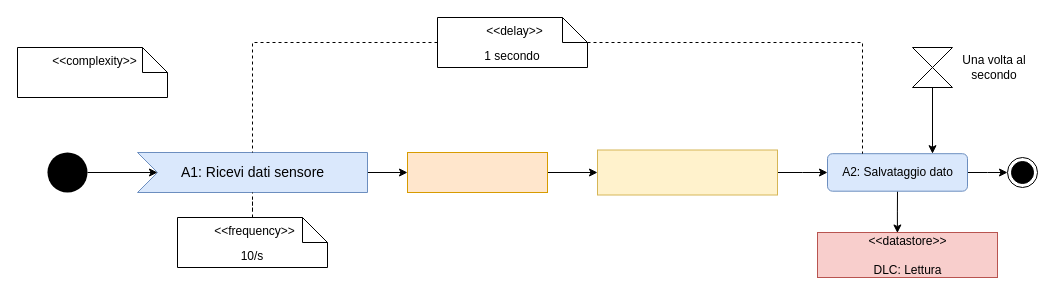
This 1055x295 diagram has some shape labels left out. The shapes that lost their labels are listed below. From the top down, each one's centre as x and y in pixels, then its label:
(x=92, y=72): low
(x=477, y=172): D1: Lettura
(x=687, y=172): <<buffer>> BLC: Lettura
